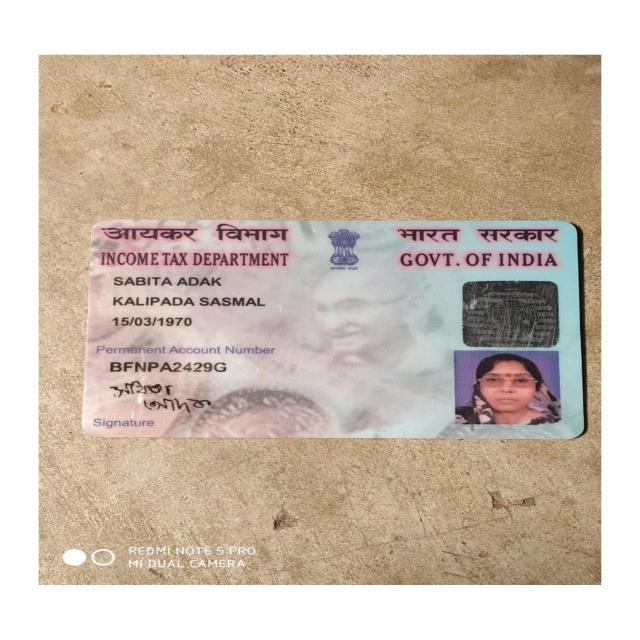pan_card: (76, 218, 586, 436)
